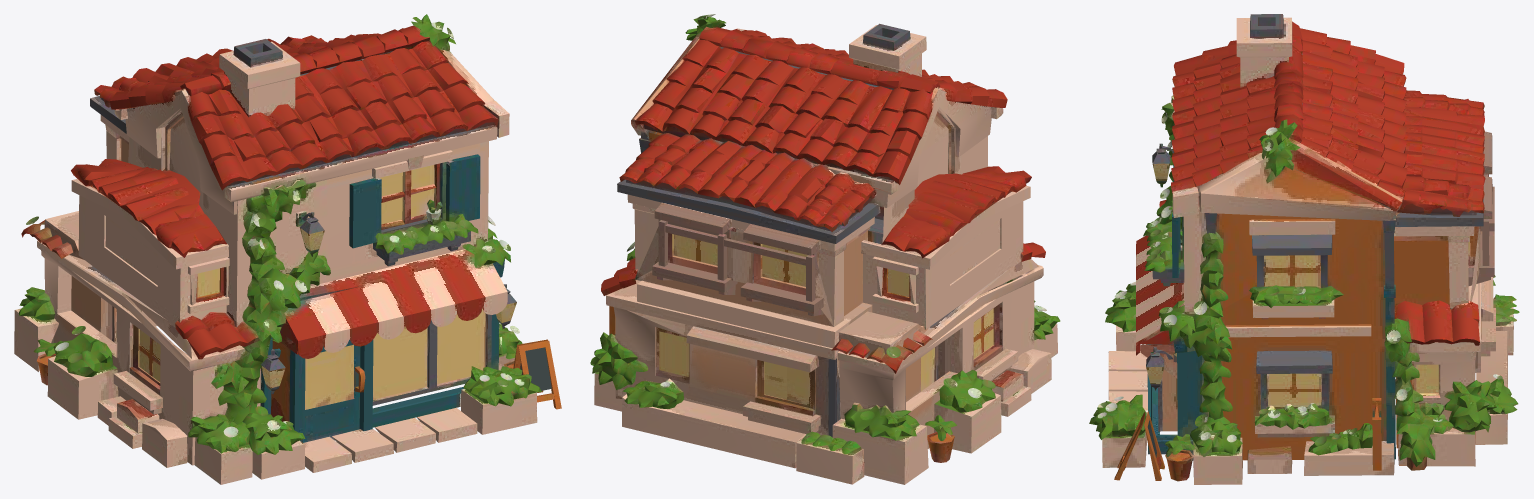
File: m3_shop.glb
The picture shows the model from 3 angles, left to right: view 1: azimuth 30°, elevation 25°; view 2: azimuth 150°, elevation 25°; view 3: azimuth 270°, elevation 25°; orthographic projection. The views are drawn at different scales.
Parts seen in each view (by area): view 1: shop; view 2: shop; view 3: shop.
Boxes of the visible parts, left/top/right/bottom form: shop: left=14, top=14, right=561, bottom=484; shop: left=590, top=14, right=1060, bottom=484; shop: left=1089, top=14, right=1519, bottom=484.
Bounding box in the file's own units: 10.02 × 8.96 × 9.9.
Materials: 4 (3 with a texture image).
